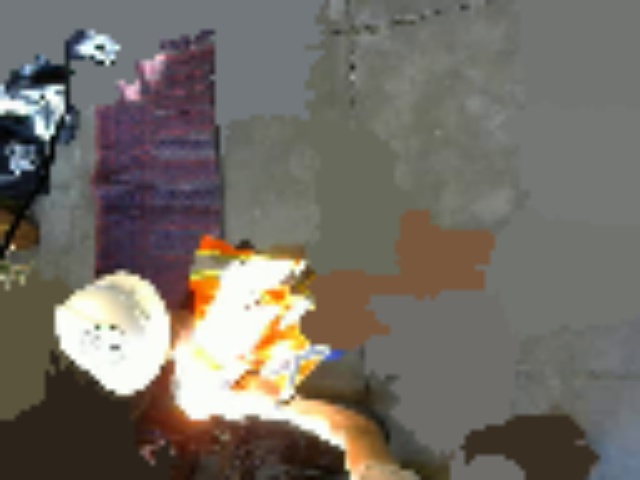two: (79, 324, 126, 366)
